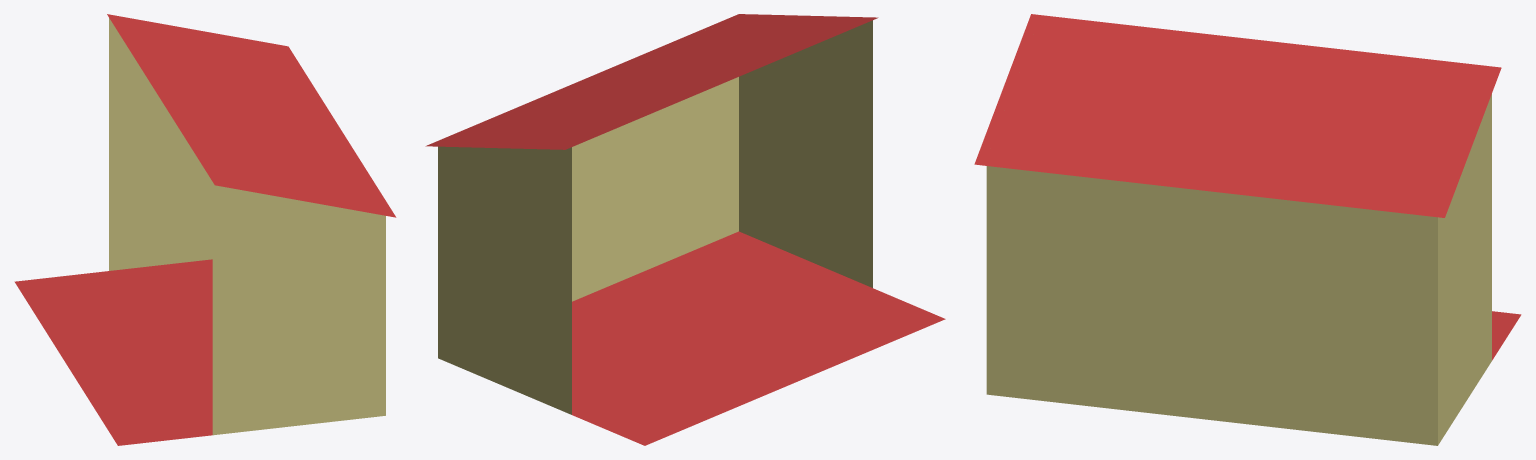
3 views of the same model, side by side, from view 1: azimuth 30°, elevation 25°; view 2: azimuth 150°, elevation 25°; view 3: azimuth 270°, elevation 25° (orthographic). The views are drawn at different scales.
Bounding box in the file's own units: 11.13 × 13.69 × 8.12.
